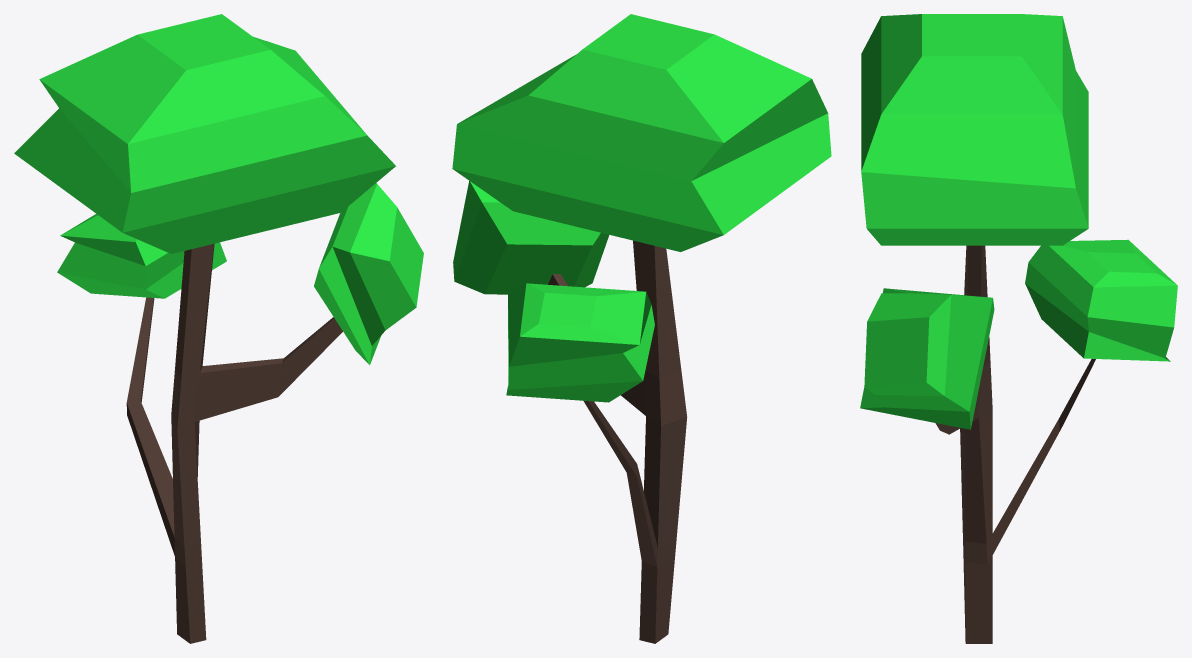
File: Tree2.fbx
3 renders of one model, left to right at view 1: azimuth 30°, elevation 25°; view 2: azimuth 150°, elevation 25°; view 3: azimuth 270°, elevation 25°, orthographic. The views are drawn at different scales.
Visible parts, largest first — view 1: Leaves, Stem; view 2: Leaves, Stem; view 3: Leaves, Stem.
Part boxes in pixels (x1,y1,x2,y2): Leaves: (14,14,423,365); Stem: (126,243,342,643); Leaves: (452,14,831,402); Stem: (548,240,687,643); Leaves: (860,14,1177,429); Stem: (935,245,1095,643).
Bounding box in the file's own units: 499 × 857 × 405.
